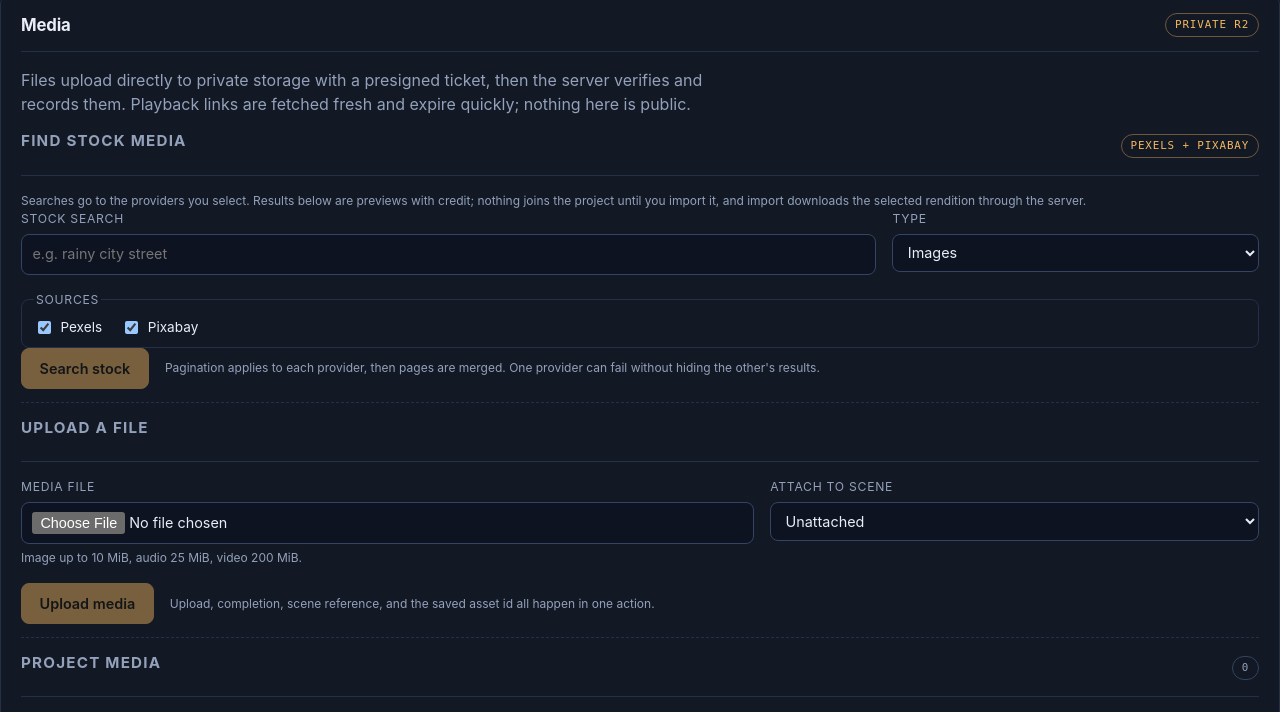
Scenario: stock search in the media panel › shows credited previews, reports a failed provider, and imports only on request
In the search field labelled "Stock search": (449, 254) [21, 234, 876, 275], type "rain"
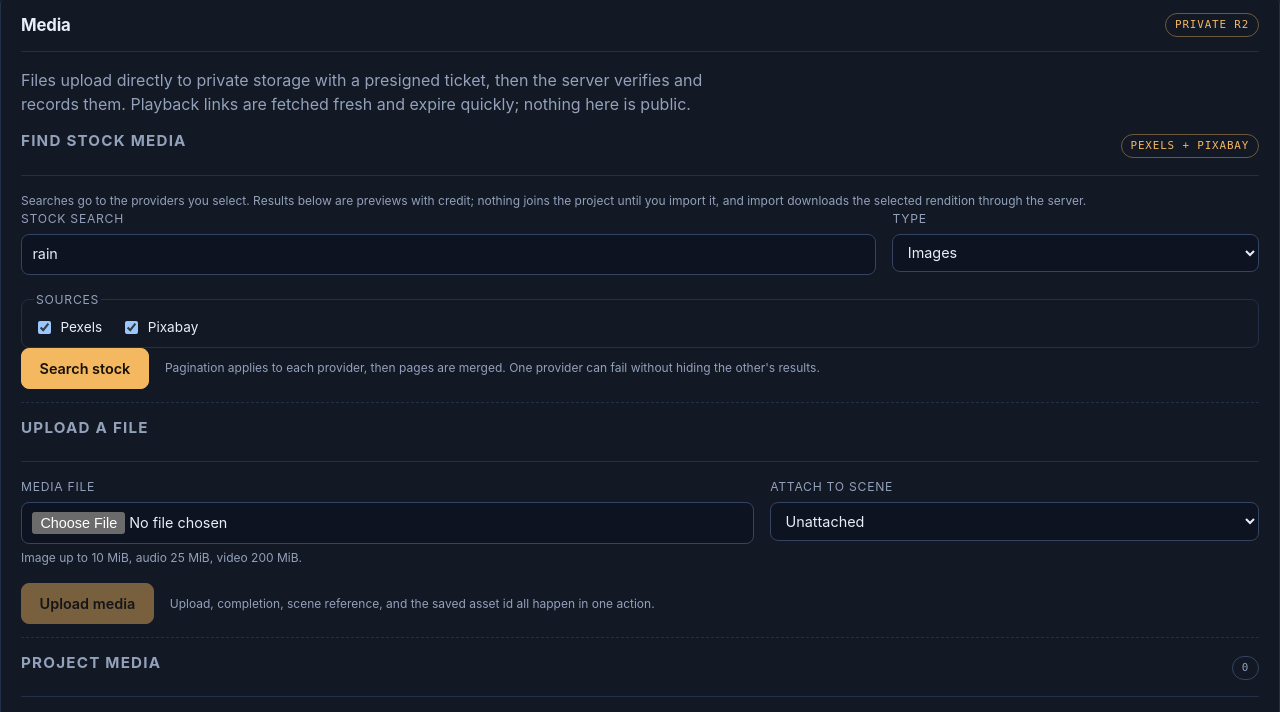
Click the button "Search stock": (85, 368) [21, 348, 149, 389]
(page scrolled)
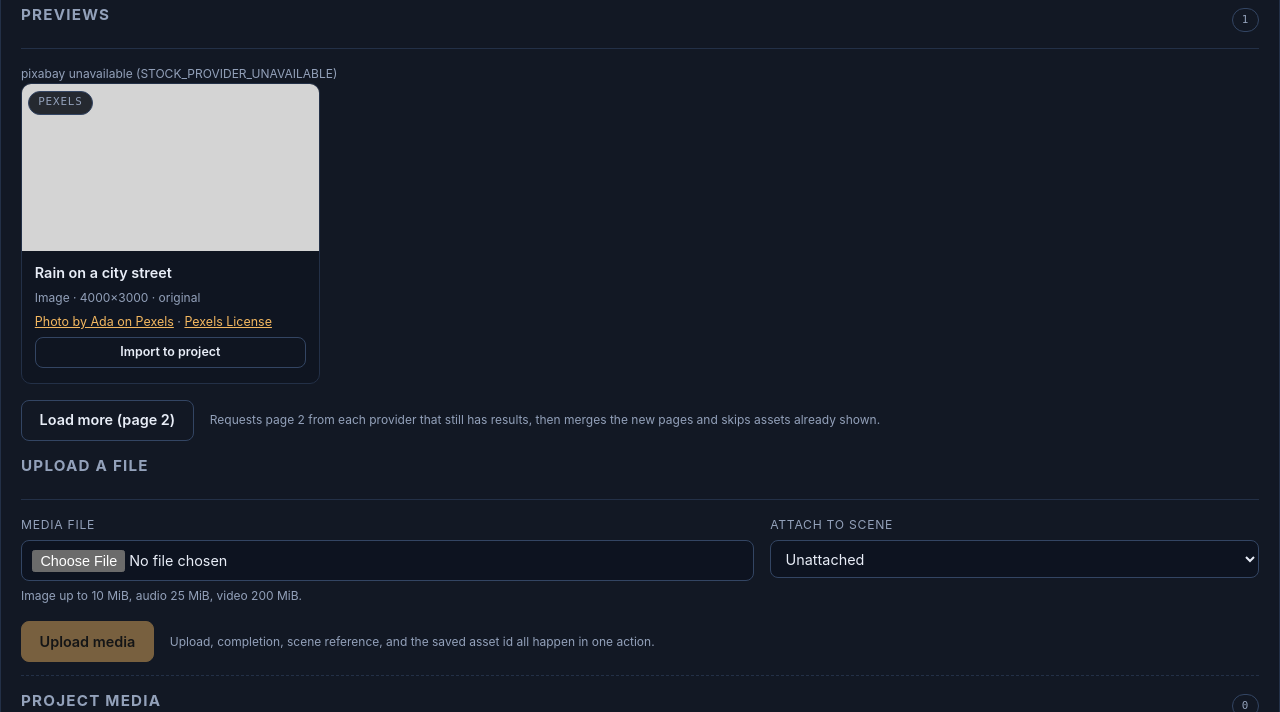
Expected: the text "Image · 4000×3000 · original" is shown, [35, 290, 200, 305]
Expected: the text "pixabay unavailable (STOCK_PROVIDER_UNAVAILABLE)" is shown, [21, 66, 337, 81]
Click the button "Import to project": (170, 353) [35, 337, 306, 368]
(page scrolled)
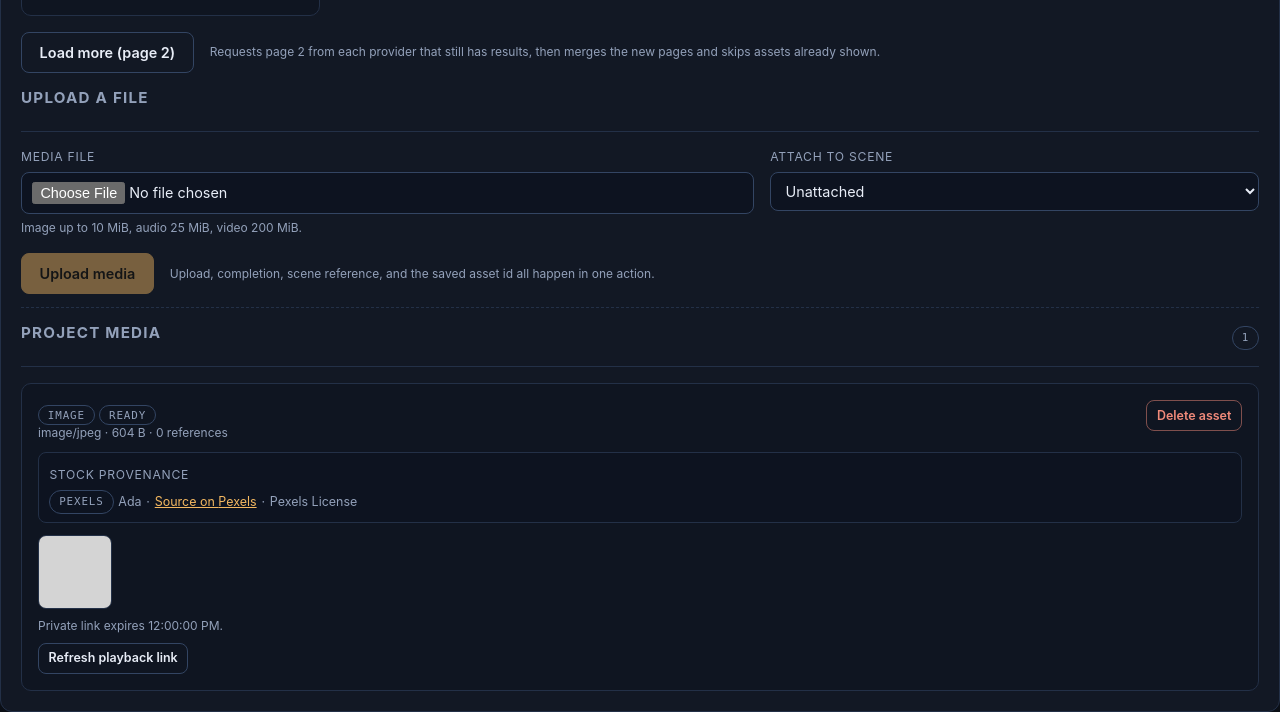
Expected: the text "ready" is shown, [99, 405, 156, 425]
Expected: the text "image/jpeg · 604 B · 0 references" is shown, [38, 424, 228, 442]
